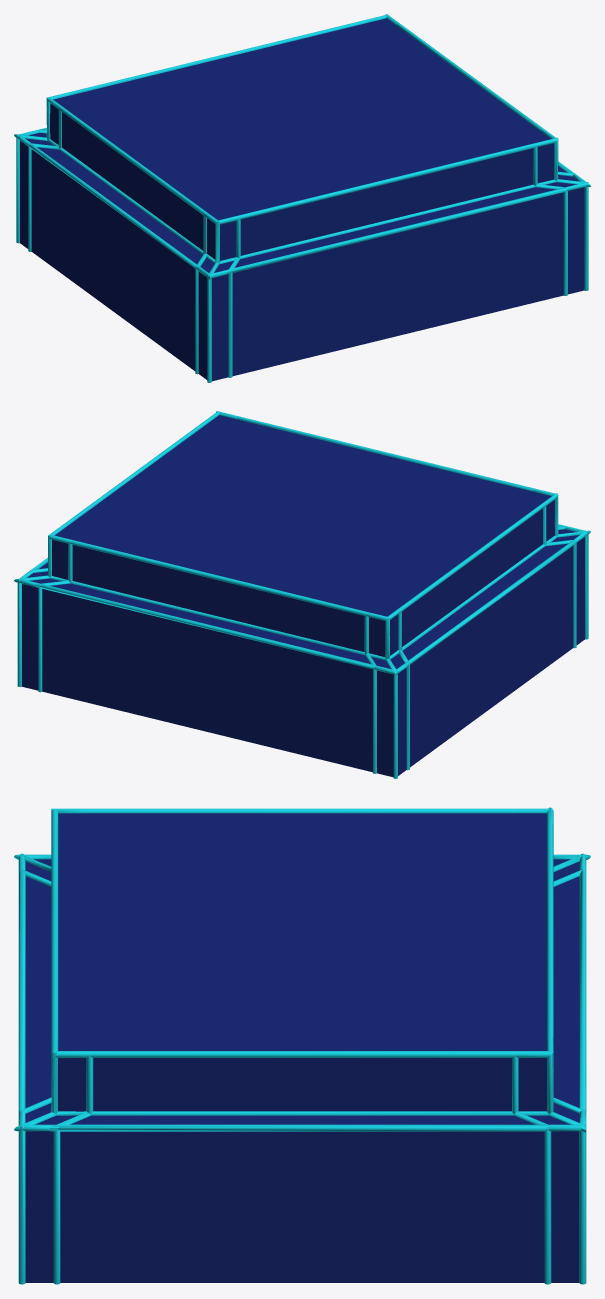
File: Retangulo02_Mapa01.FBX
The picture shows the model from 3 angles, top to bottom: view 1: azimuth 30°, elevation 25°; view 2: azimuth 150°, elevation 25°; view 3: azimuth 270°, elevation 25°; orthographic projection. The views are drawn at different scales.
Parts seen in each view (by area): view 1: Box002, Shape002; view 2: Box002, Shape002; view 3: Box002, Shape002.
Boxes of the visible parts, x1,y1,x2,y2 form: Box002: (20, 18, 584, 381); Shape002: (14, 14, 590, 382); Box002: (22, 415, 584, 777); Shape002: (14, 411, 590, 778); Box002: (25, 813, 579, 1282); Shape002: (14, 807, 590, 1284).
Size of the model in its own units: 191 by 70.63 by 169.
